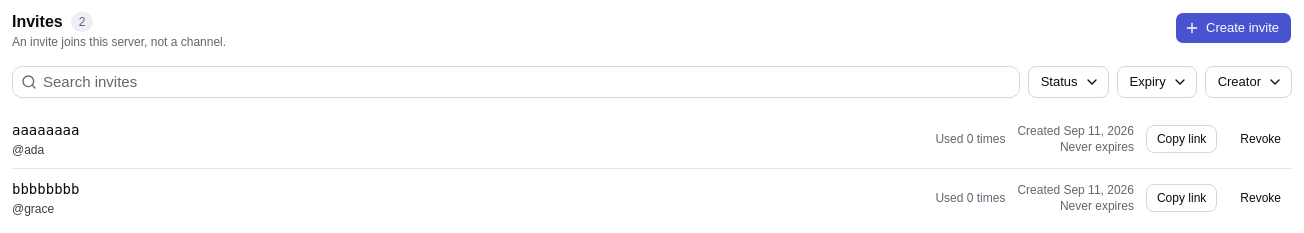
it: InvitesPage › searches by code and by the person who made it
Expected: the text "aaaaaaaa" is shown, [12,122,79,138]
Type "bbbb" into the dropdown named "Search invites by code or creator @username" at (528, 82), box [41,67,1015,97]
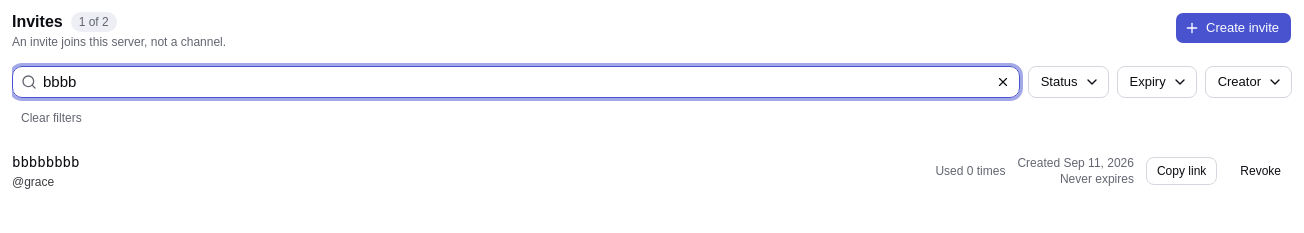
Expected: the text "aaaaaaaa" is gone
Clear the dropdown named "Search invites by code or creator @username" at (514, 82), box [41,67,987,97]
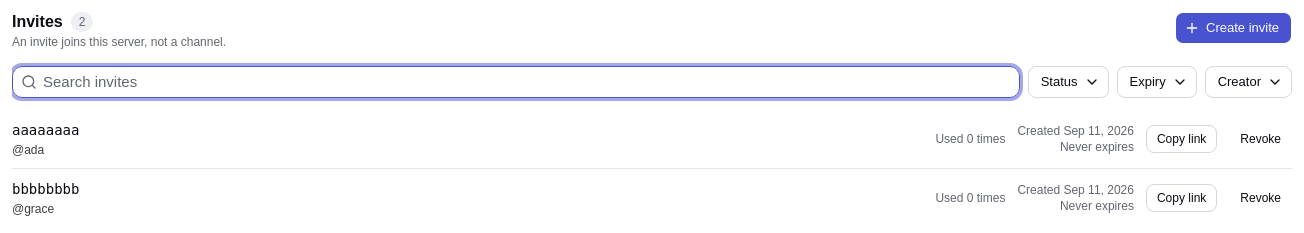
Type "grace" into the dropdown named "Search invites by code or creator @username" at (528, 82), box [41,67,1015,97]
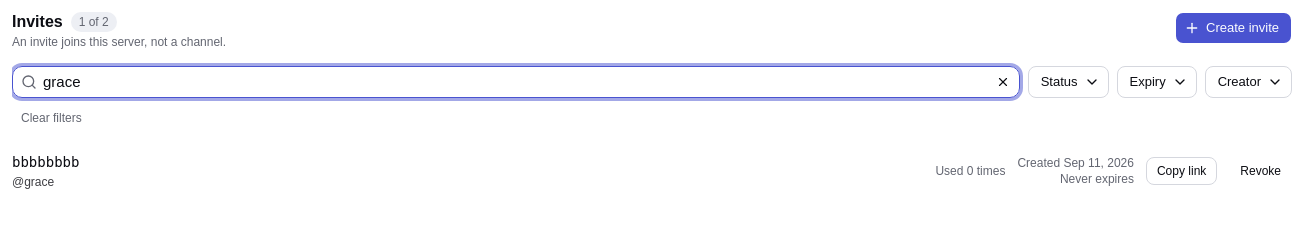
Expected: the text "bbbbbbbb" is shown, [12,154,79,170]
Expected: the text "aaaaaaaa" is gone
